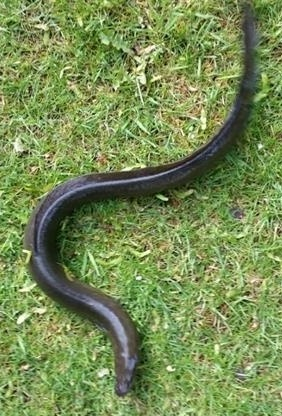Anguilla anguilla: (20, 10, 262, 396)
